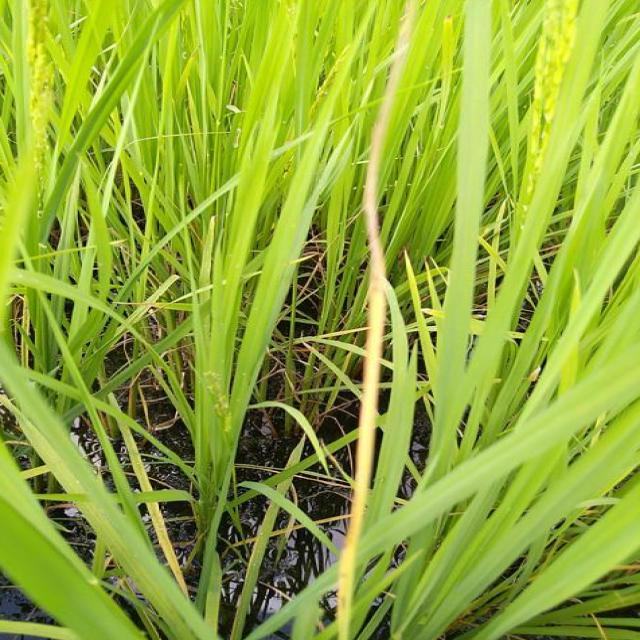Leaf Blight: (336, 128, 385, 611)
